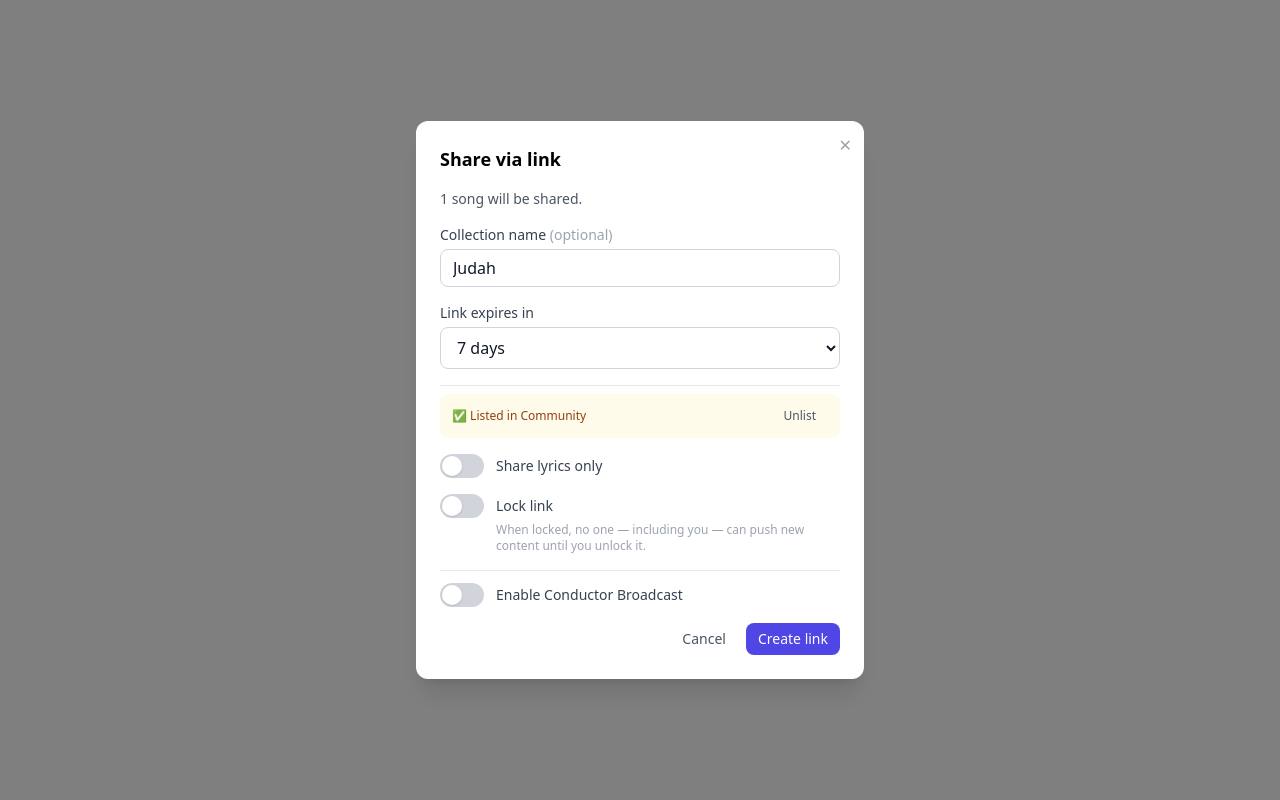
Scenario: ShareModal — unlist › shows a soft error and keeps the listed banner when unlisting fails
Click the button "Unlist": (800, 416) [772,402,828,430]
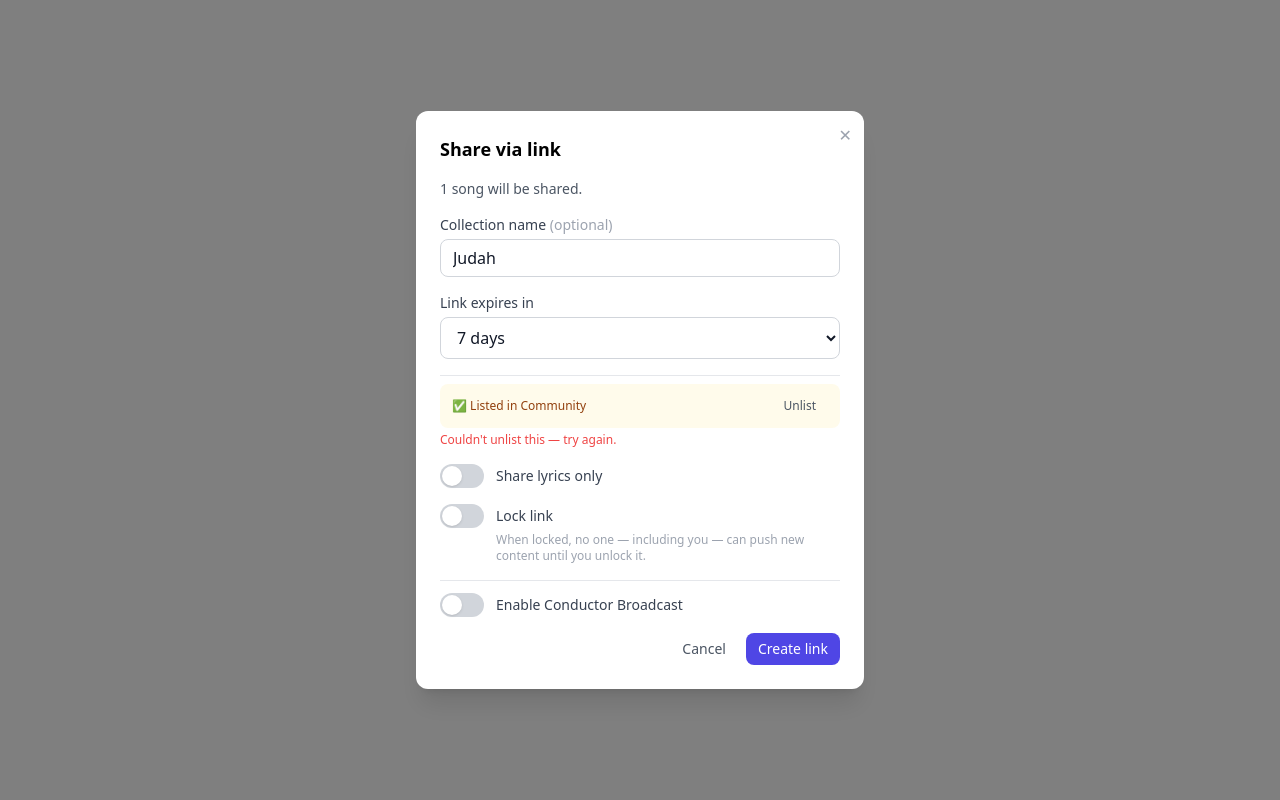
Expected: the text "✅ Listed in Community" is shown, [452,398,586,414]
Expected: the text "Couldn't unlist this — try again." is shown, [440,431,616,448]
